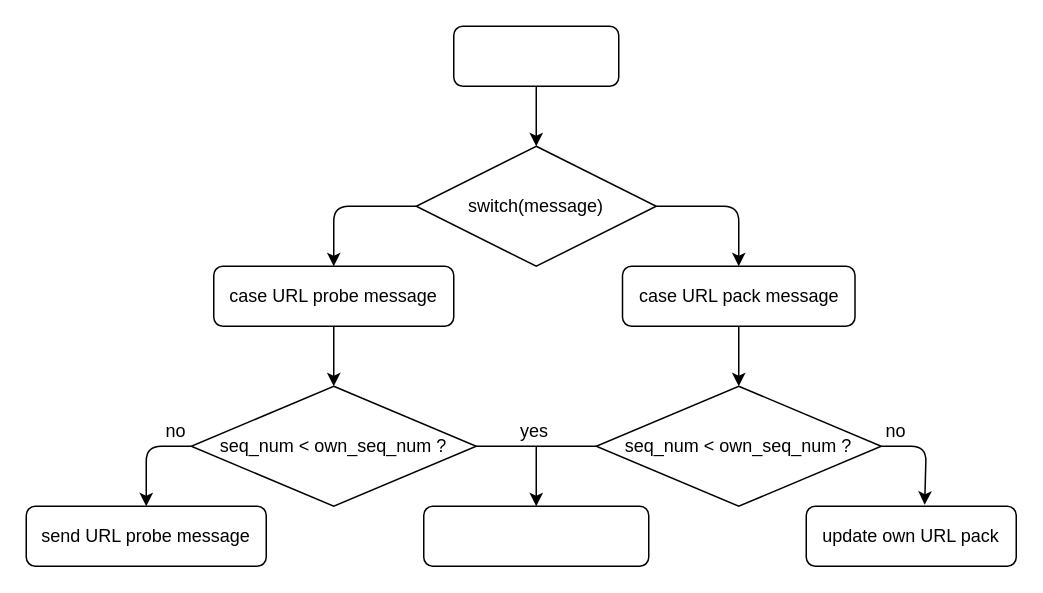
The diagram is 1043 pixels wide and 593 high, and some of its shapes have lost their labels. Here are the shapes that lost their labels. From the top down, the centre of each, then its label:
pixel 535 55: Receive message
pixel 535 535: send URL pack message
